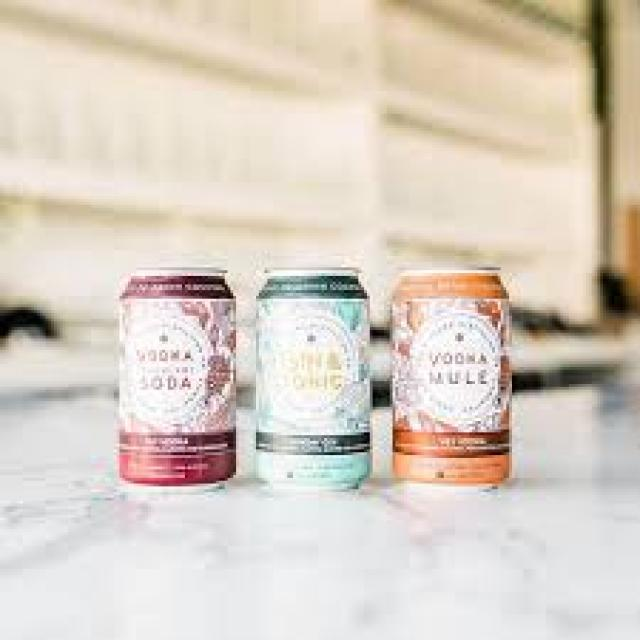Cans: (376, 259, 520, 492), (108, 259, 245, 495), (245, 265, 378, 492)
